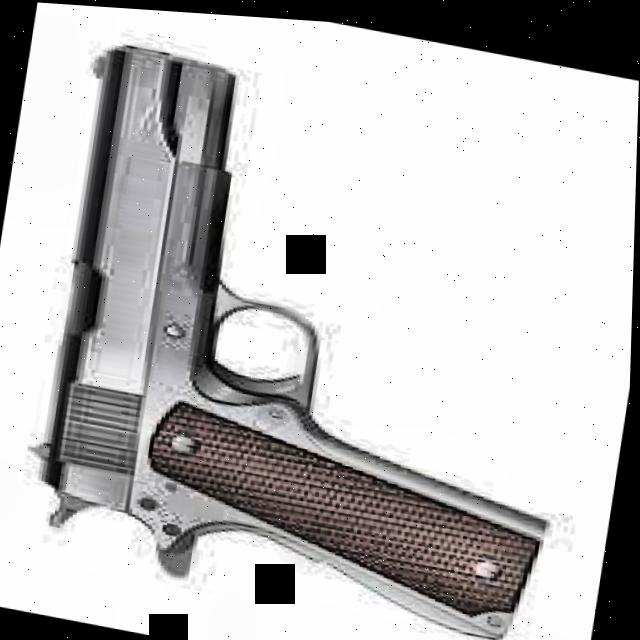Colt m1911: (10, 29, 611, 640)
